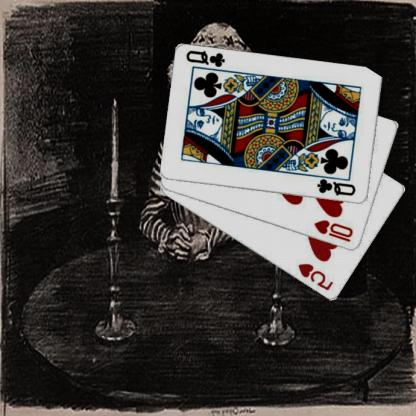10H: (314, 218, 356, 244)
5H: (298, 261, 336, 292)
QC: (186, 48, 228, 69), (316, 177, 358, 197)
